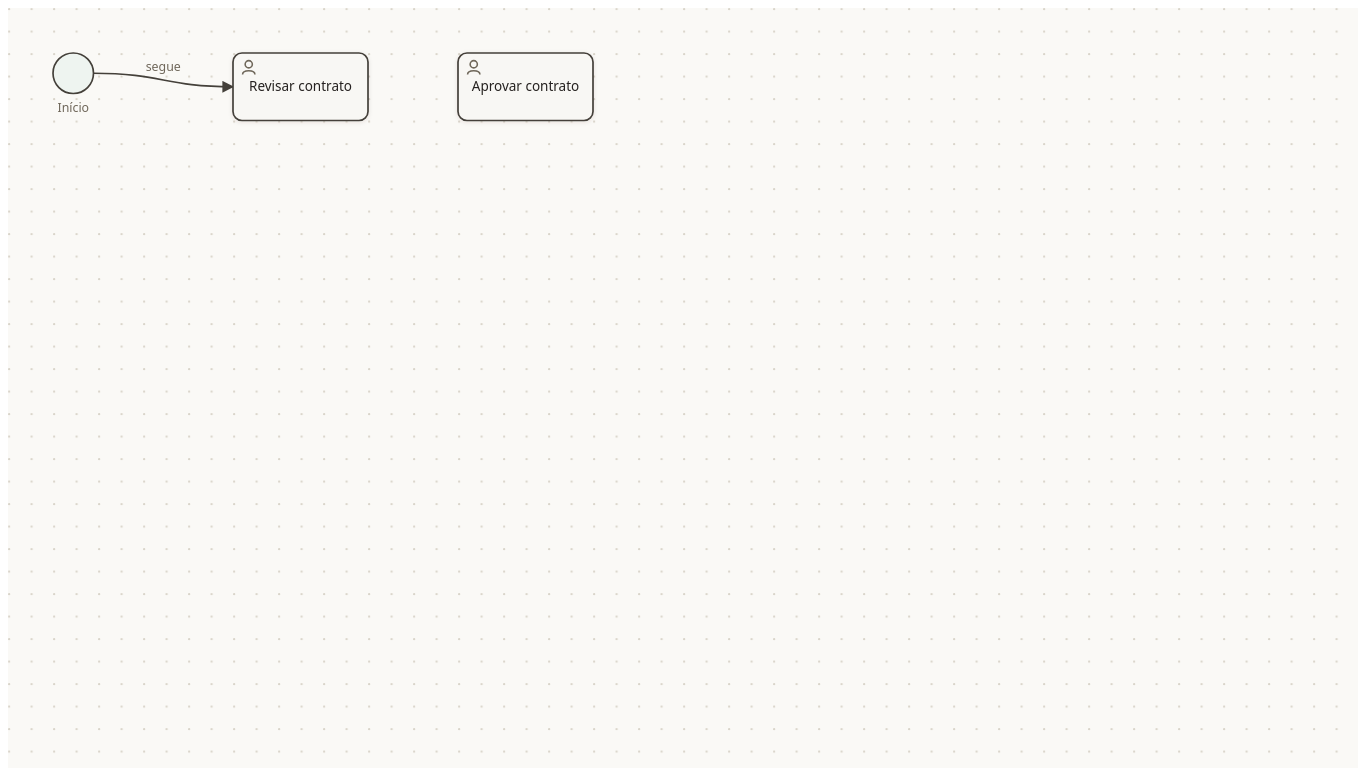
Test: find bar (referência item 4) › Ctrl+F opens the bar; typing shows the match count
This screenshot has width=1366, height=768.
Press f
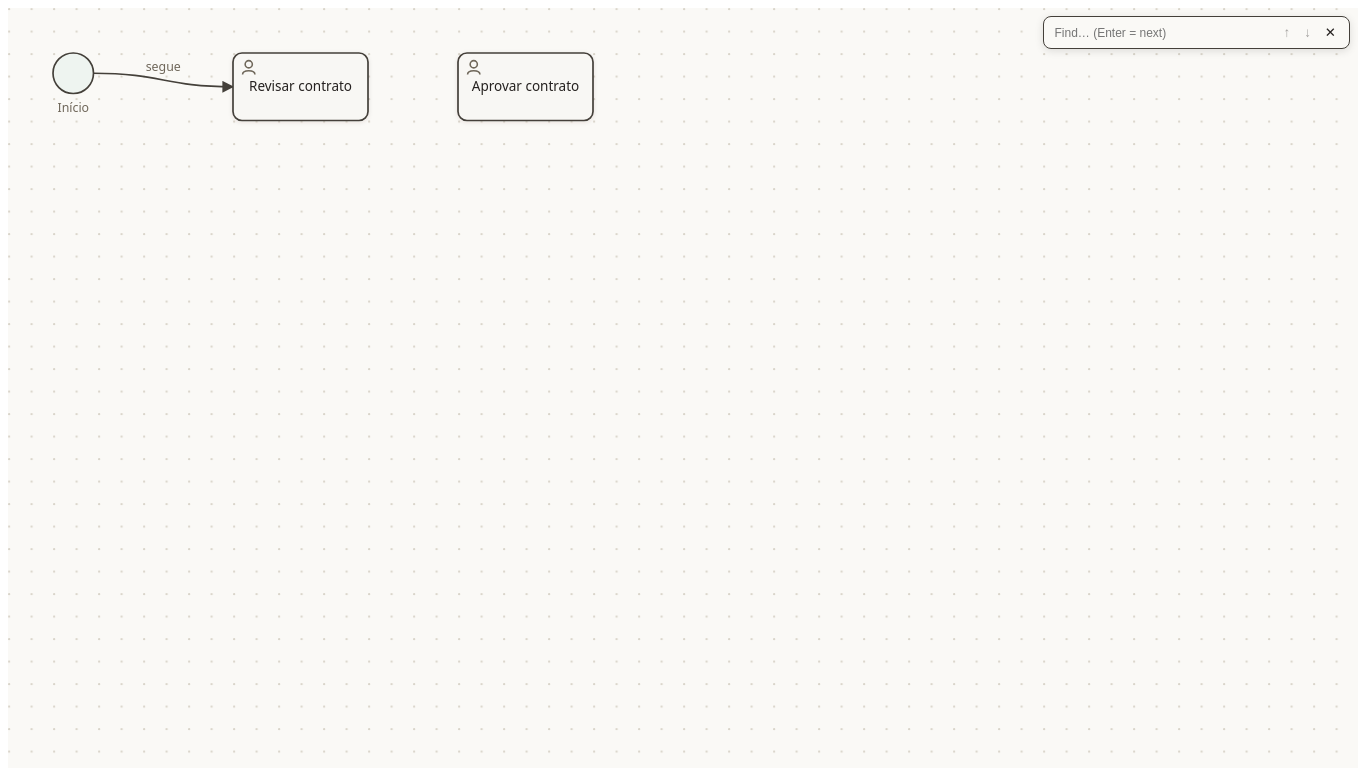
Now the element showing "↑ ↓ ✕" is shown, box [1044,16,1350,49]
Type "contrato" into the field with placeholder "Find… (Enter = next)" at [1144, 32], box [1052,24,1236,40]
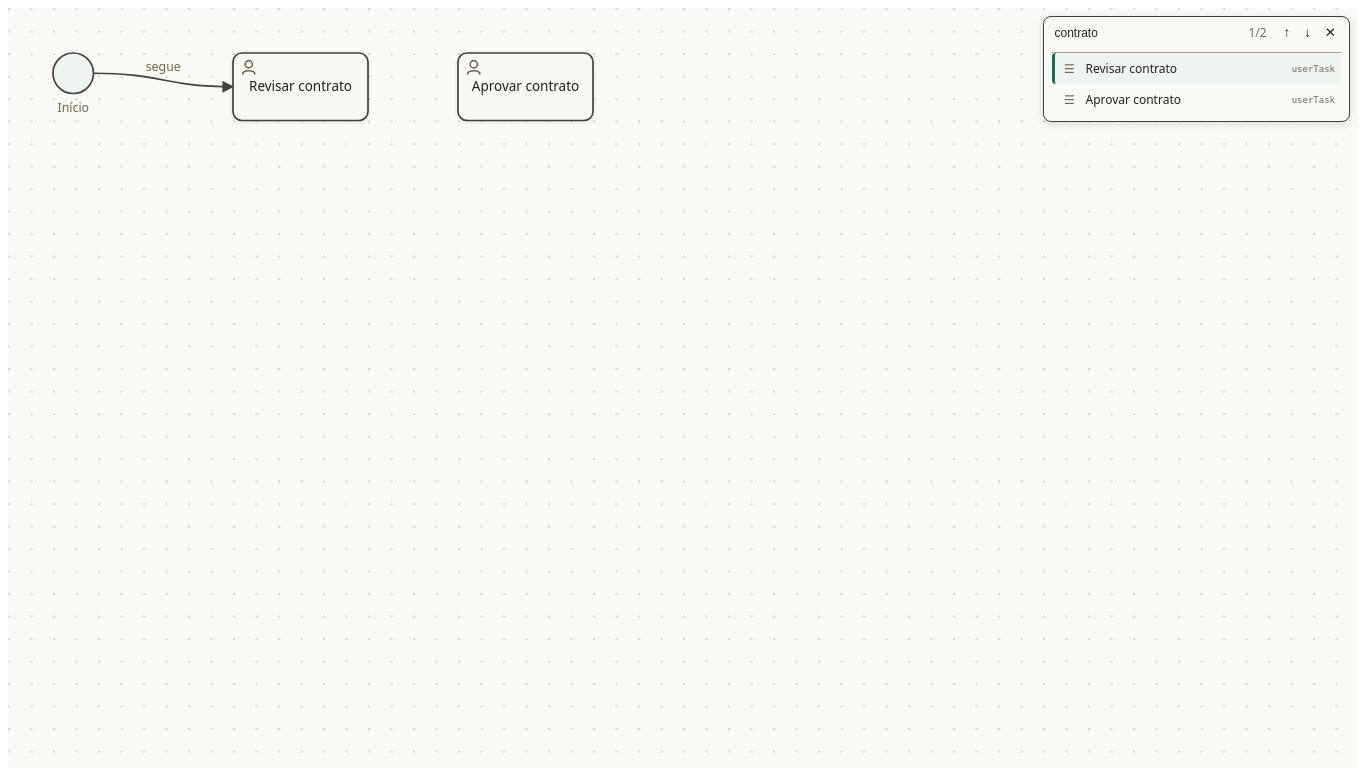
Now the element named "Find in diagram" shows "1/2", box [1248,24,1267,41]
